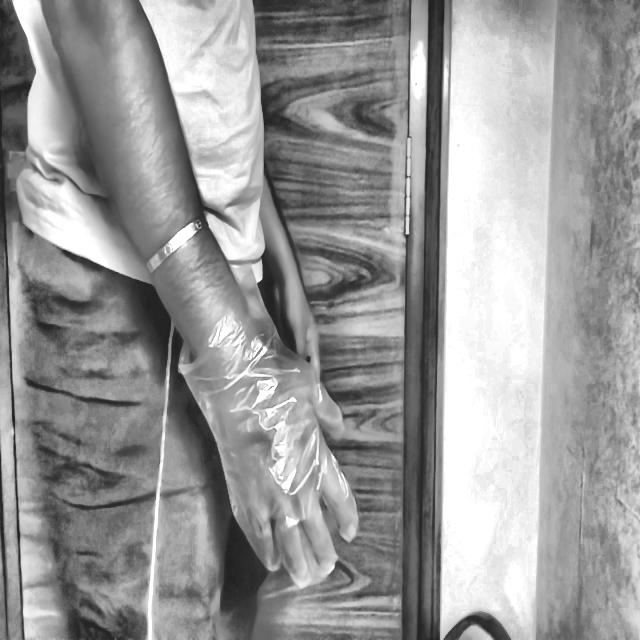gloved: (152, 279, 374, 594)
